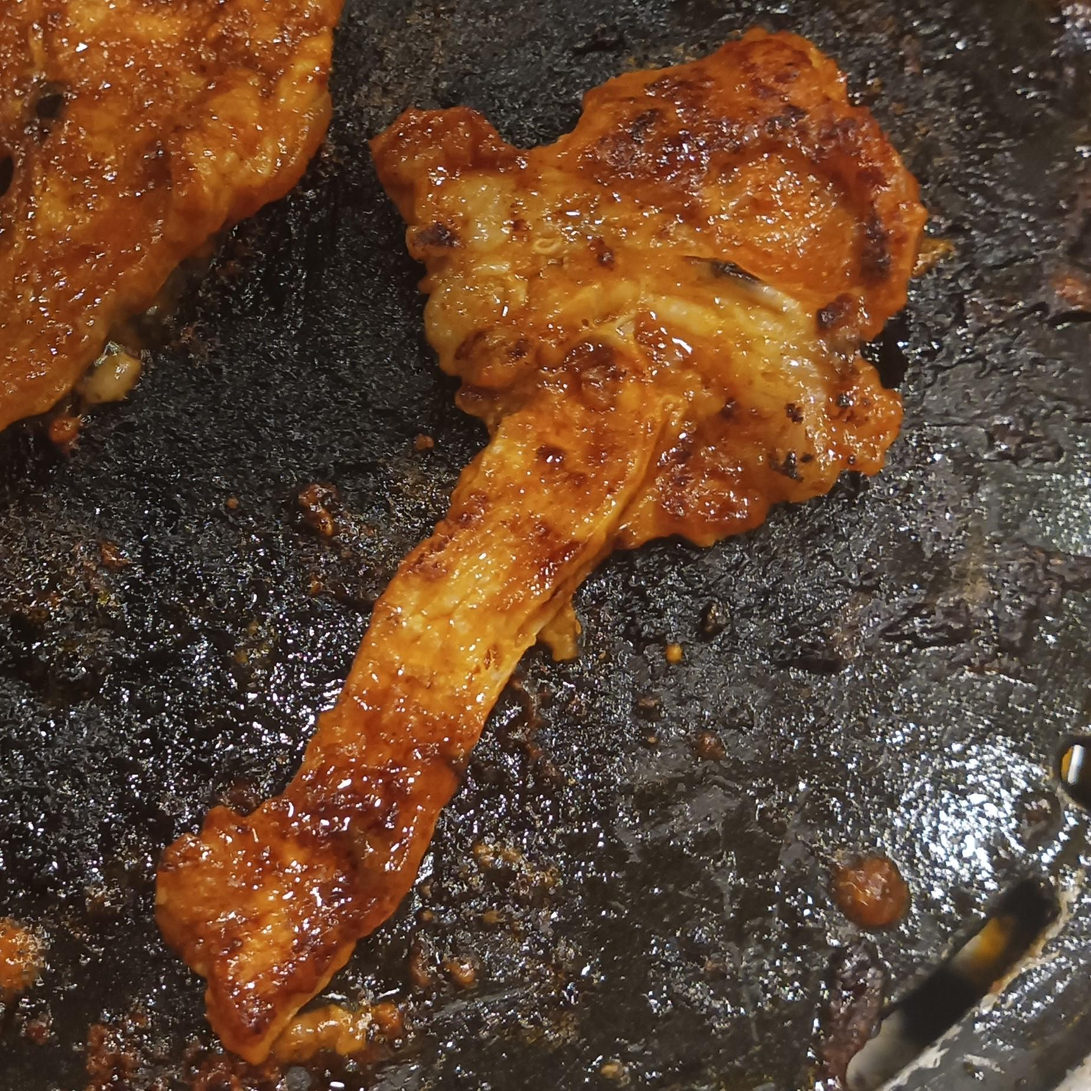Overcooked: (156, 28, 927, 1064), (0, 0, 342, 427)
